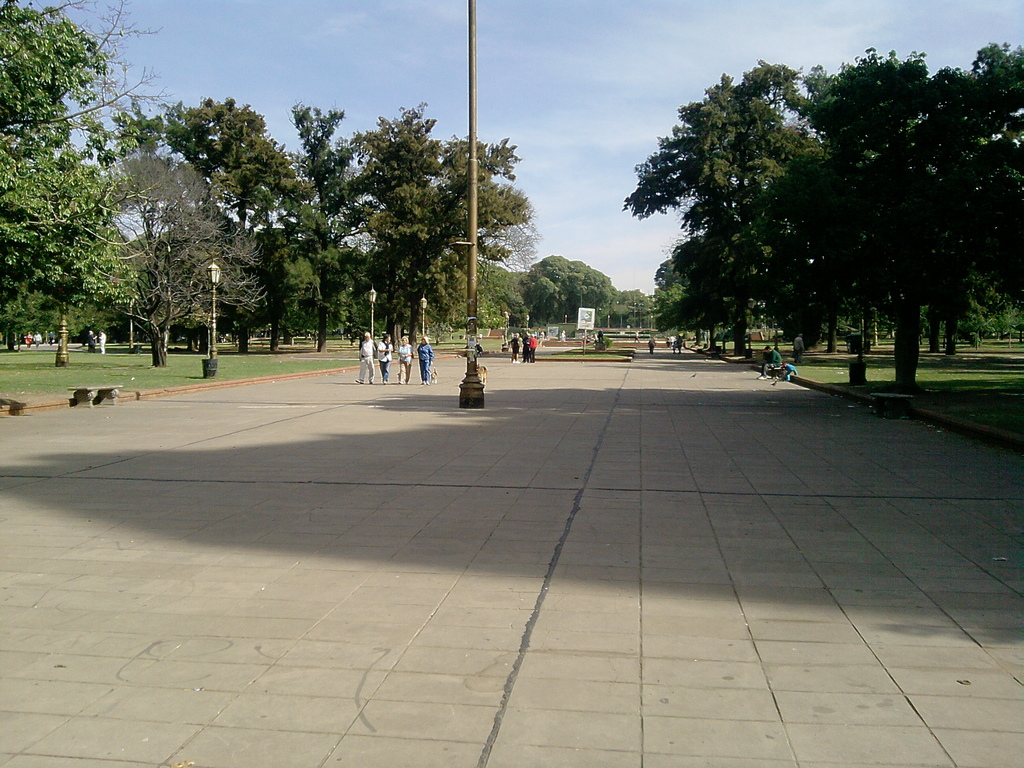Tree: (0, 0, 535, 362), (618, 53, 990, 382)
